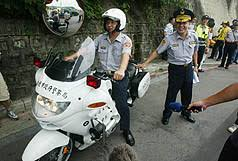helmet: (100, 8, 133, 28)
